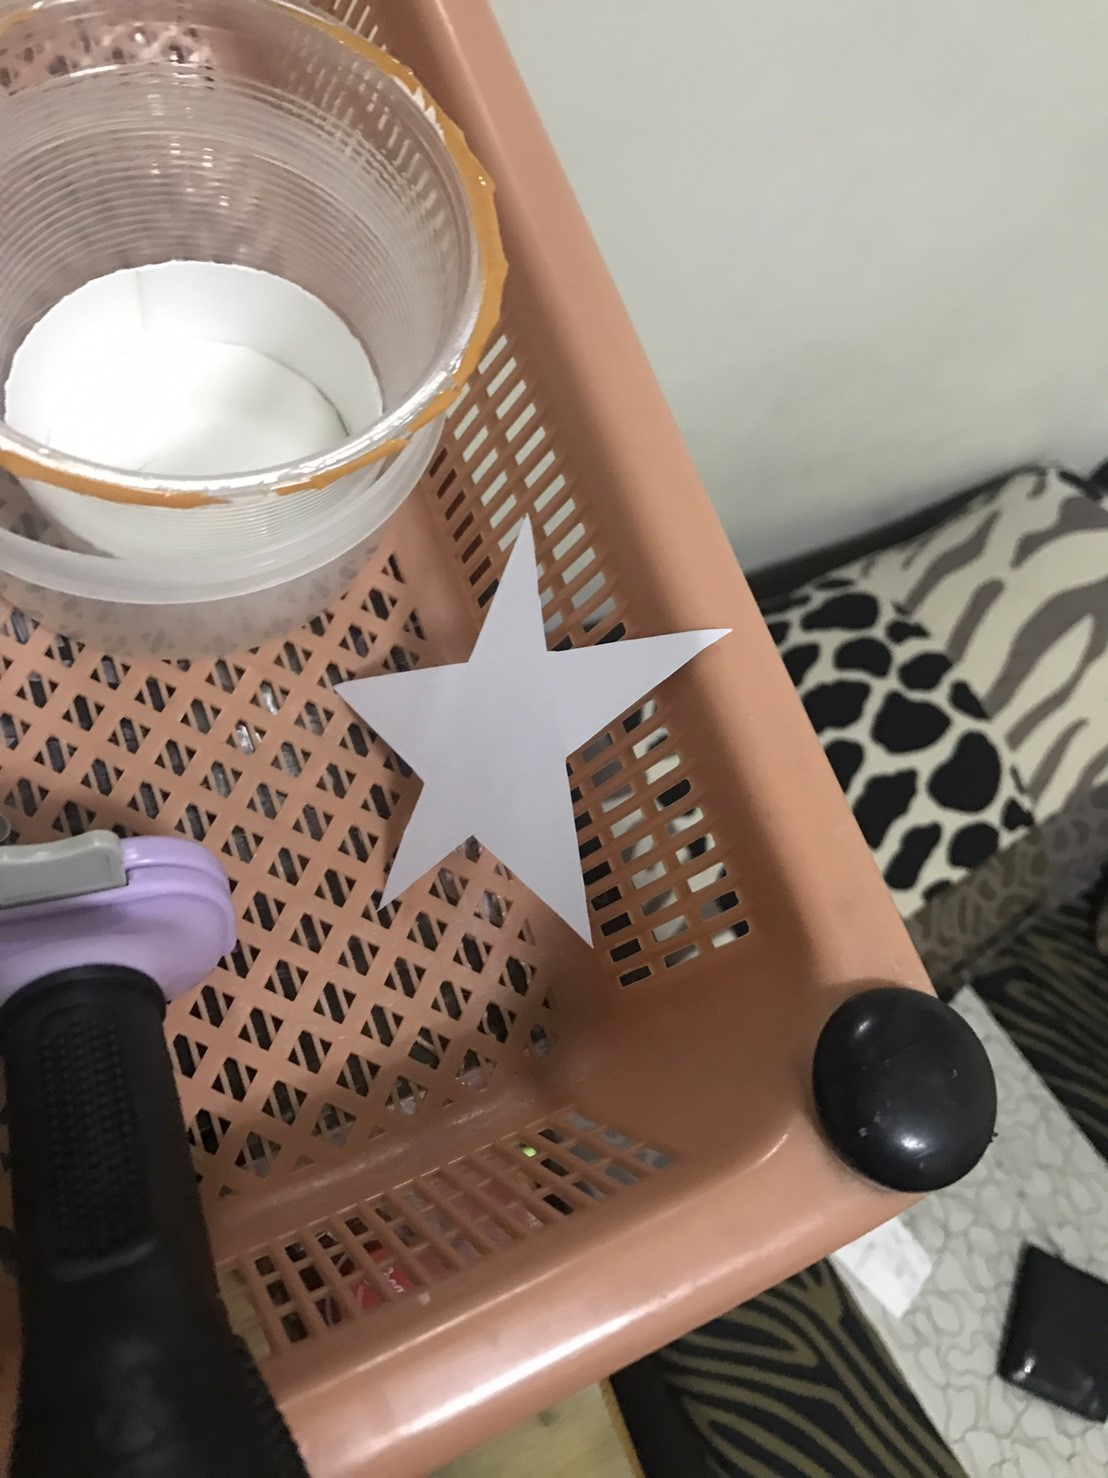star: (317, 502, 732, 959)
